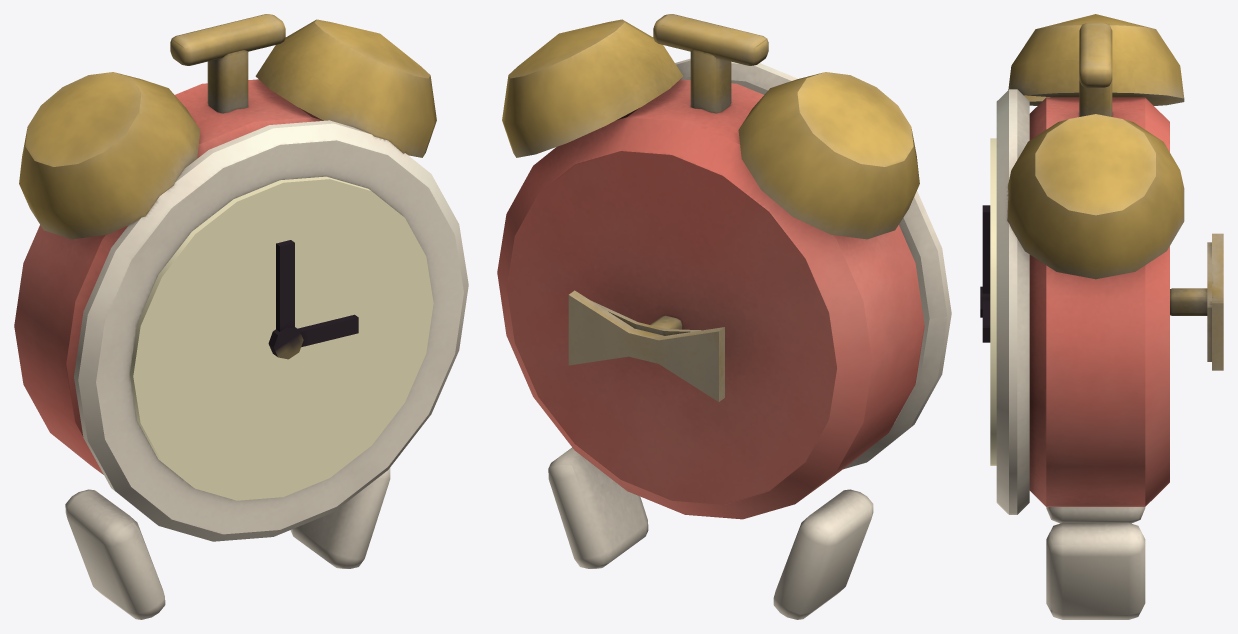
File: noise_maker.fbx
The picture shows the model from 3 angles, left to right: view 1: azimuth 30°, elevation 25°; view 2: azimuth 150°, elevation 25°; view 3: azimuth 270°, elevation 25°; orthographic projection. The views are drawn at different scales.
Parts seen in each view (by area): view 1: Body, Glow; view 2: Body, Spin; view 3: Body, Spin, Glow.
Part boxes in pixels (x1,y1,x2,y2): Body: [14, 14, 468, 619]; Glow: [130, 176, 433, 500]; Body: [497, 14, 951, 619]; Spin: [568, 290, 724, 401]; Body: [980, 14, 1184, 619]; Spin: [1170, 233, 1223, 370]; Glow: [990, 138, 996, 465].
Size of the model in its own units: 0.5219 by 0.7025 by 0.295.
Materials: 1 (1 with a texture image).
